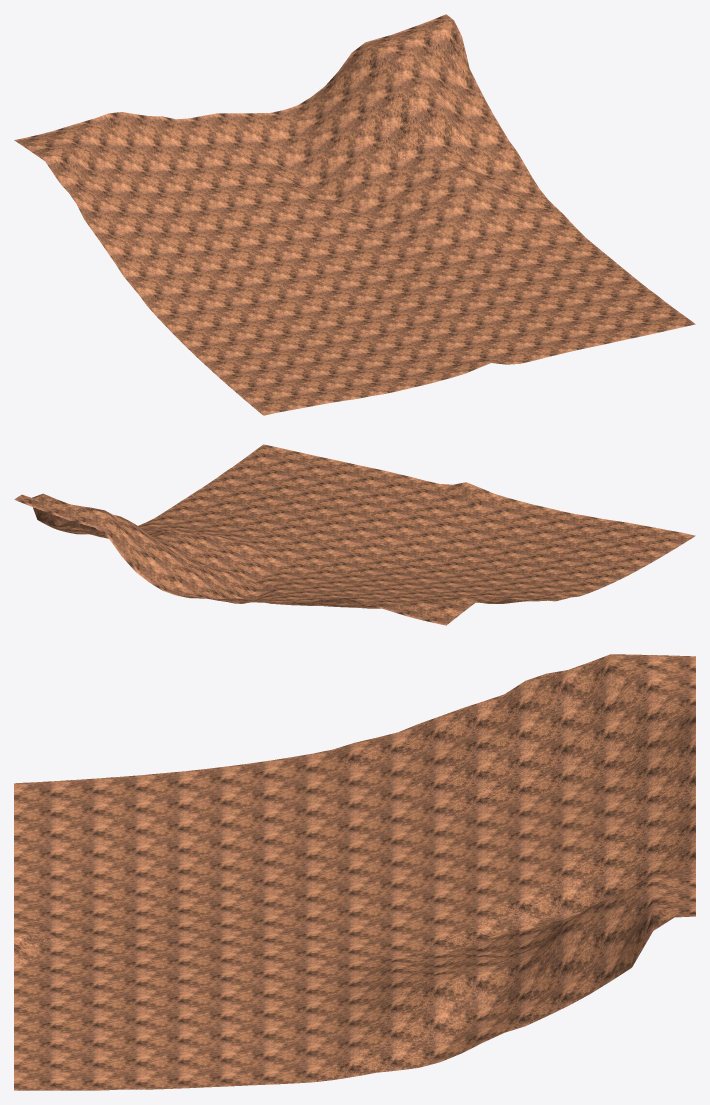
File: terrain_00_13.dae
The picture shows the model from 3 angles, top to bottom: view 1: azimuth 30°, elevation 25°; view 2: azimuth 150°, elevation 25°; view 3: azimuth 270°, elevation 25°; orthographic projection. The views are drawn at different scales.
Visible parts, largest first — view 1: terrain_00_13-node; view 2: terrain_00_13-node; view 3: terrain_00_13-node.
Boxes of the visible parts, x1,y1,x2,y2 form: terrain_00_13-node: [14, 14, 695, 415]; terrain_00_13-node: [14, 444, 695, 625]; terrain_00_13-node: [14, 654, 695, 1090].
Bounding box in the file's own units: 128 × 128 × 36.08.
Materials: 1 (1 with a texture image).
